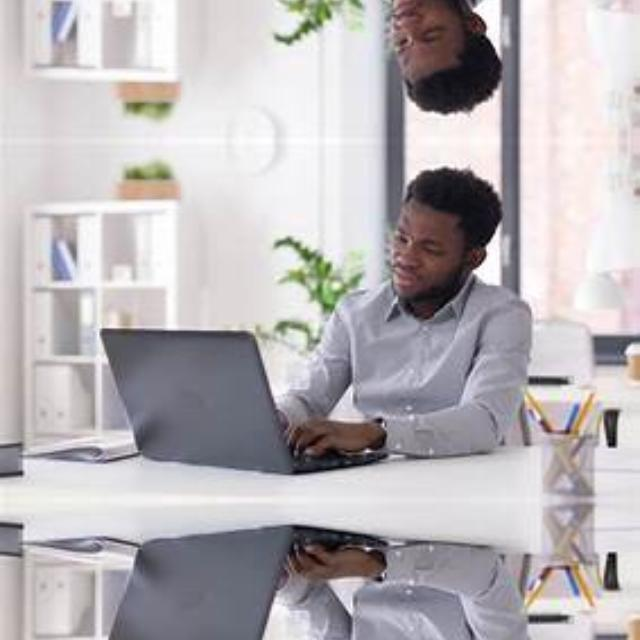person: (284, 154, 562, 456), (283, 0, 562, 125), (283, 543, 562, 640)
